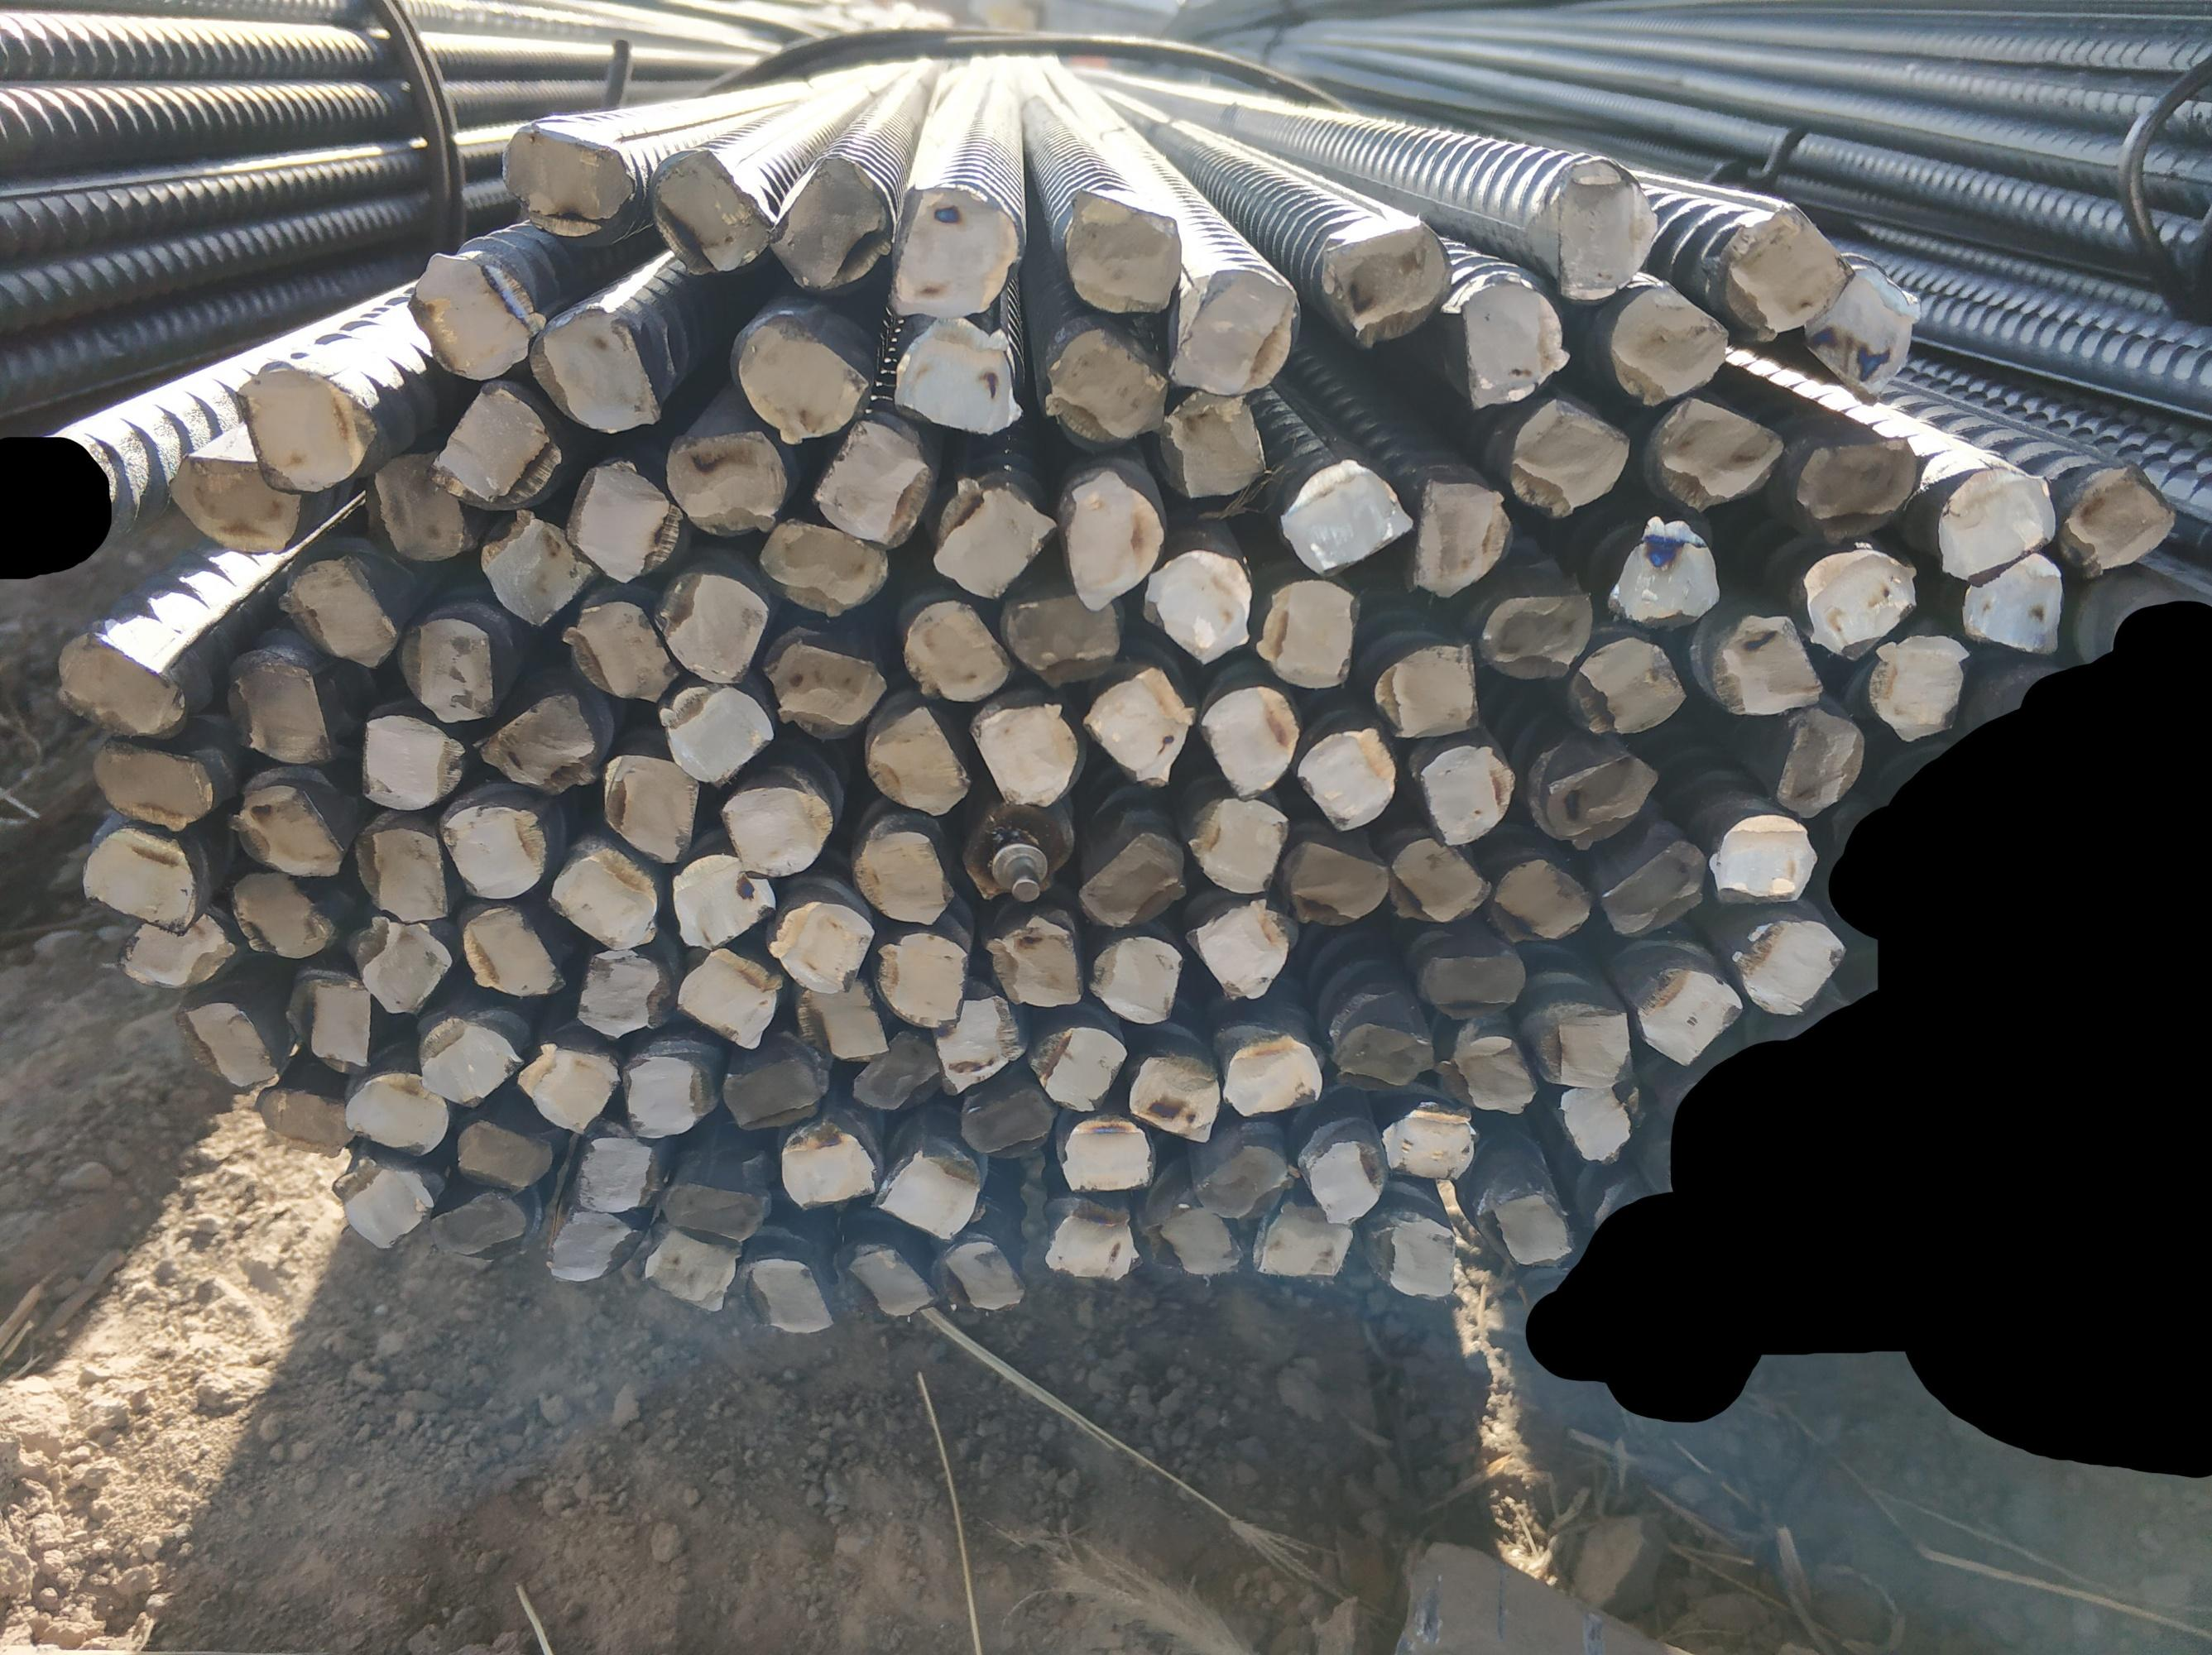bar: (1708, 196, 1854, 344), (238, 351, 375, 495), (1531, 155, 1668, 299), (770, 148, 891, 296), (890, 183, 1022, 318), (424, 381, 563, 508), (1168, 266, 1301, 396), (525, 306, 660, 433), (1324, 214, 1454, 344), (1279, 459, 1416, 582), (735, 318, 867, 445), (497, 120, 636, 240), (408, 250, 539, 377), (930, 473, 1056, 602), (1606, 278, 1732, 407), (1807, 261, 1920, 405), (1063, 184, 1185, 318), (1449, 275, 1569, 409), (1647, 391, 1781, 509), (813, 417, 935, 546), (1934, 462, 2056, 591), (652, 148, 772, 275), (566, 457, 685, 586), (1041, 325, 1169, 443), (895, 318, 1025, 435), (52, 628, 186, 741), (1060, 469, 1166, 612), (167, 443, 302, 555), (1508, 396, 1630, 518), (1533, 730, 1656, 848), (2059, 462, 2179, 582), (276, 551, 396, 669), (1081, 666, 1195, 789), (78, 819, 200, 934), (1797, 548, 1920, 661), (1136, 546, 1255, 662), (480, 506, 593, 628), (1411, 475, 1515, 603), (221, 650, 335, 767), (963, 697, 1081, 810), (1795, 435, 1917, 544), (664, 429, 791, 534), (858, 701, 971, 817), (1248, 574, 1359, 692), (558, 595, 672, 708), (367, 450, 478, 567), (1564, 631, 1685, 737), (478, 688, 594, 798), (756, 518, 884, 617), (1604, 515, 1722, 622), (653, 568, 768, 678), (1957, 542, 2064, 659), (655, 680, 773, 786), (994, 591, 1119, 690), (549, 840, 662, 947), (1708, 608, 1823, 715), (1157, 388, 1267, 497), (964, 798, 1077, 904), (1199, 681, 1300, 800), (222, 779, 342, 878), (328, 1146, 438, 1253), (1597, 834, 1708, 940), (1371, 638, 1484, 741), (601, 749, 700, 866), (768, 635, 884, 734), (356, 708, 464, 814), (92, 741, 214, 834), (1727, 918, 1842, 1017), (904, 596, 1010, 702), (674, 944, 778, 1052), (1076, 826, 1183, 930), (1868, 631, 1970, 741), (718, 781, 832, 878), (1632, 965, 1745, 1062), (1708, 810, 1821, 907), (1414, 741, 1515, 848), (436, 803, 547, 901), (1771, 706, 1866, 817), (349, 819, 448, 925), (669, 852, 777, 949), (766, 895, 874, 993), (1479, 589, 1593, 680), (349, 913, 450, 1015), (851, 822, 950, 927), (169, 994, 275, 1092), (414, 1012, 521, 1107), (1300, 725, 1395, 833), (1190, 793, 1291, 894), (1190, 895, 1289, 998), (874, 1146, 980, 1241), (398, 619, 493, 723), (516, 1040, 622, 1133), (1282, 836, 1388, 930), (464, 901, 566, 996), (111, 909, 236, 987), (1022, 1020, 1128, 1113), (874, 930, 971, 1029), (226, 869, 332, 960), (933, 987, 1023, 1093), (780, 1116, 879, 1212), (1533, 996, 1637, 1087), (1387, 833, 1487, 925), (281, 972, 372, 1074), (1475, 1179, 1574, 1271), (1437, 1024, 1536, 1114), (1222, 1031, 1324, 1118), (1489, 859, 1593, 944), (342, 1071, 448, 1154), (1089, 932, 1183, 1026), (987, 914, 1081, 1008), (1126, 1052, 1222, 1142), (1056, 1109, 1154, 1196), (789, 977, 890, 1060), (1376, 1099, 1479, 1180), (645, 1227, 737, 1318), (851, 1024, 944, 1114), (1552, 1078, 1647, 1165), (737, 1252, 836, 1335), (1300, 1137, 1392, 1226), (1376, 1206, 1465, 1299), (575, 947, 662, 1041), (1420, 946, 1531, 1019), (1194, 1137, 1293, 1219), (1251, 1205, 1354, 1283), (622, 1045, 705, 1140), (426, 1187, 530, 1262), (957, 1081, 1056, 1160), (721, 1050, 820, 1127), (1043, 1210, 1142, 1286), (1331, 1017, 1437, 1088), (844, 1229, 931, 1316), (254, 1083, 354, 1158), (662, 1172, 770, 1241), (546, 1210, 636, 1288), (454, 1120, 554, 1189), (930, 1240, 1027, 1311), (1157, 1208, 1249, 1281), (573, 1133, 653, 1212)
